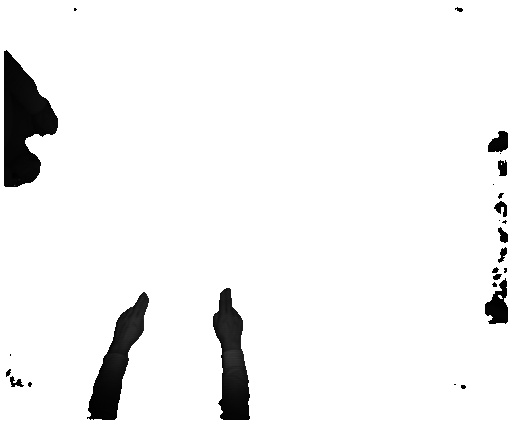hand: (208, 288, 247, 351), (113, 288, 151, 350)
